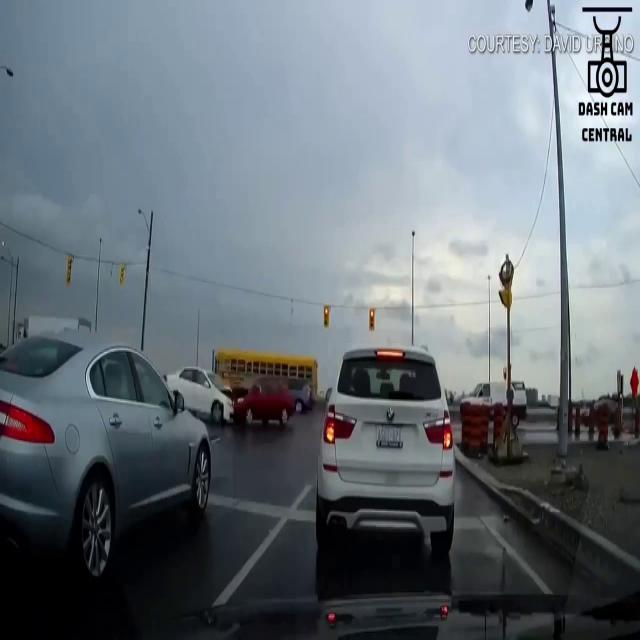accident: (171, 364, 299, 426)
